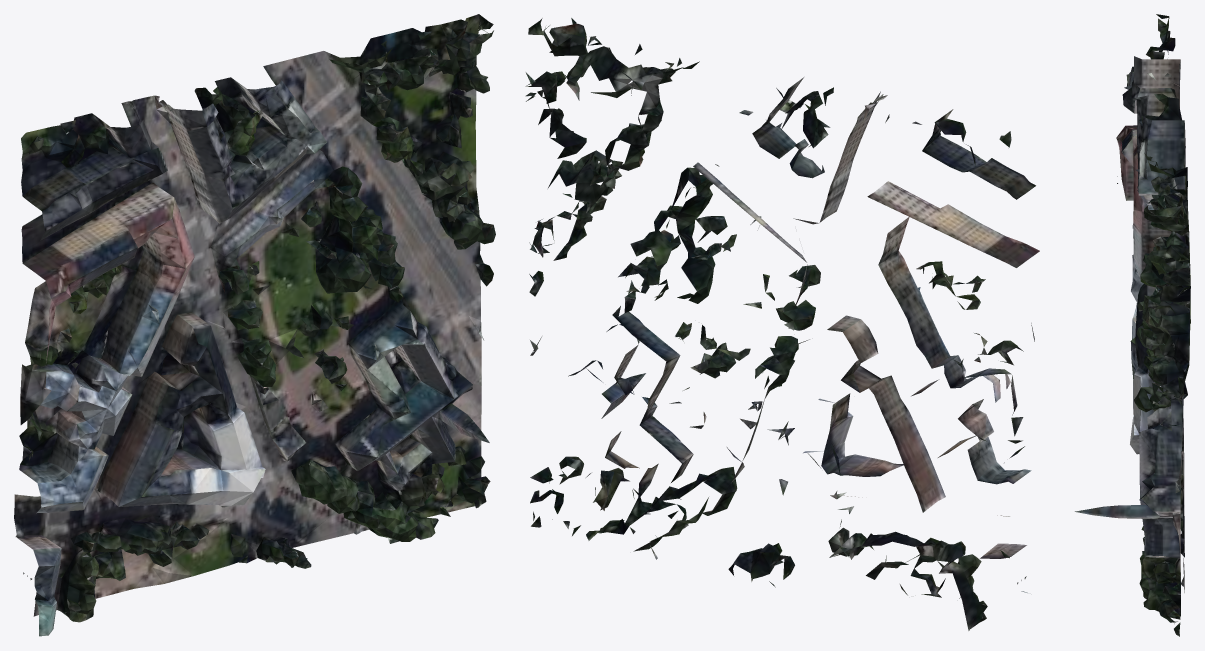
Rendered from Tile_+031_+023_L16_000.glb.
3 renders of one model, left to right at view 1: azimuth 30°, elevation 25°; view 2: azimuth 150°, elevation 25°; view 3: azimuth 270°, elevation 25°, orthographic. The views are drawn at different scales.
Size of the model in its own units: 250 by 250 by 62.34.
Materials: 1 (1 with a texture image).
